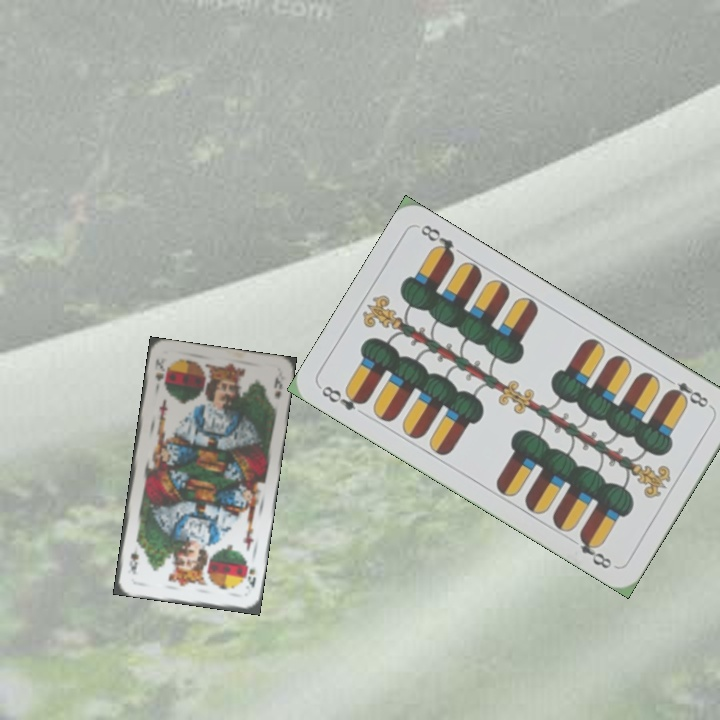E8: (662, 373, 715, 411), (317, 381, 369, 413)
SK: (151, 354, 169, 383), (243, 564, 258, 590)
